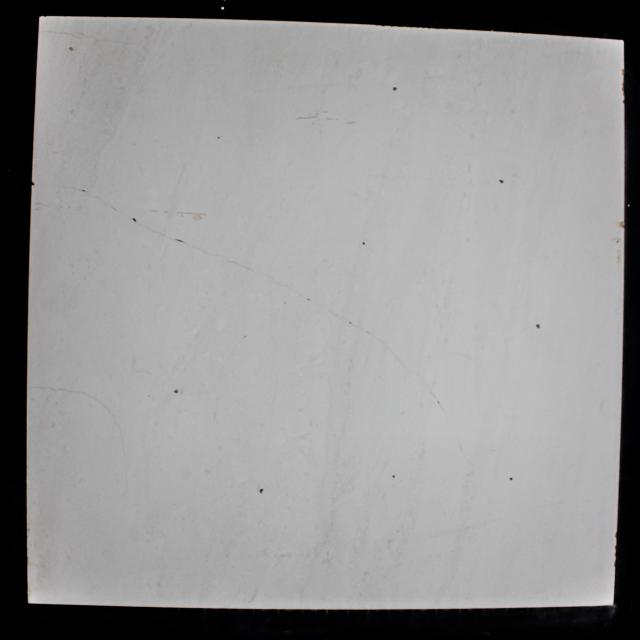edge-chipping: (621, 81, 625, 97), (31, 180, 36, 187)
hole: (507, 476, 515, 483), (536, 322, 542, 331), (392, 85, 398, 93), (498, 177, 504, 185), (67, 45, 75, 51), (259, 488, 264, 496), (173, 388, 179, 394), (216, 135, 222, 141), (361, 240, 366, 247), (391, 474, 397, 479), (81, 188, 86, 193), (131, 218, 137, 222)
line: (262, 274, 307, 299), (311, 300, 348, 322), (88, 395, 115, 417), (116, 423, 128, 471), (30, 385, 83, 393), (228, 260, 258, 274), (148, 228, 175, 241), (194, 247, 223, 256), (99, 198, 117, 211), (352, 324, 370, 334), (429, 390, 438, 400), (440, 404, 446, 414)
